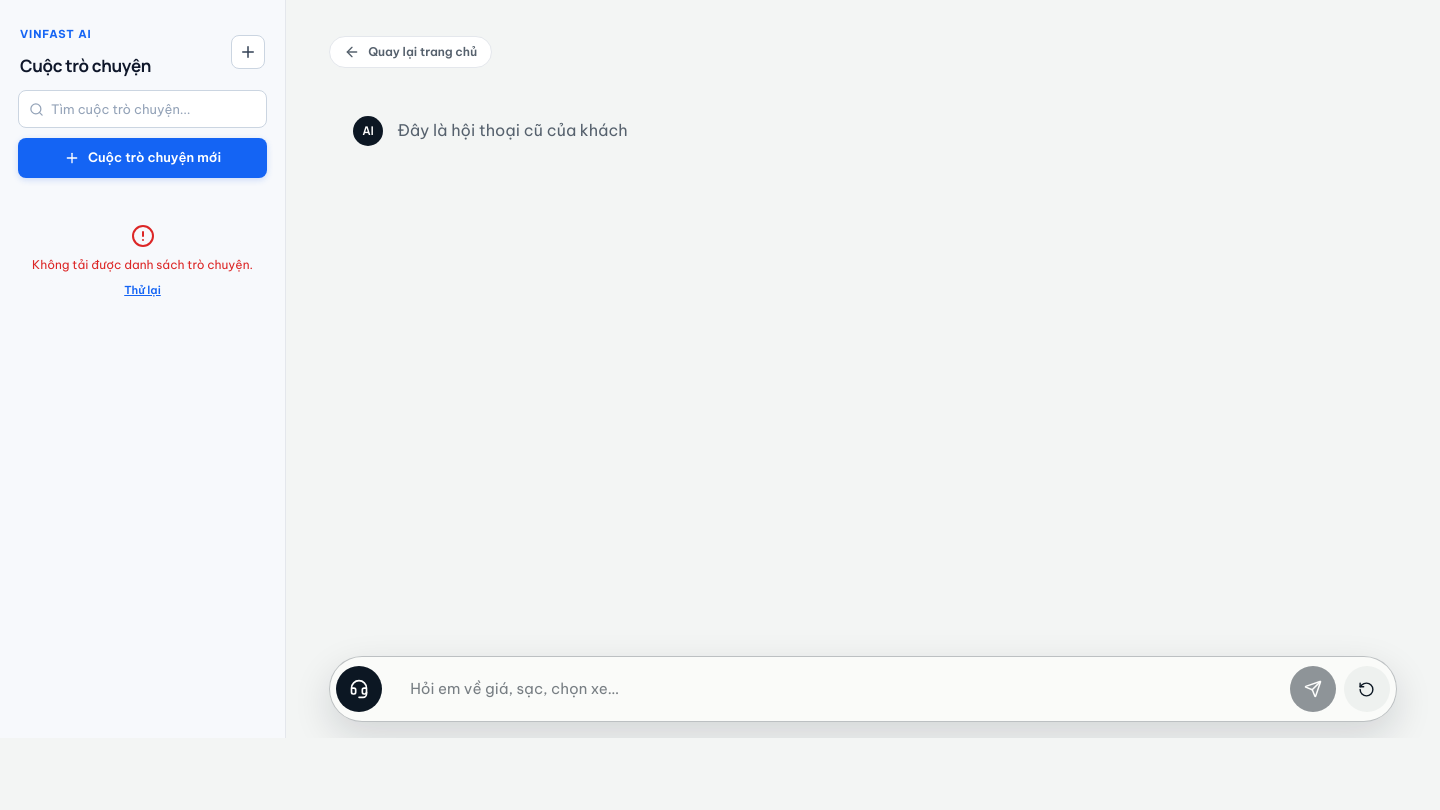
Nút tạo cuộc trò chuyện mới › dấu + trên đầu danh sách cũng bắt đầu hội thoại mới
Check: the text "Đây là hội thoại cũ của khách" is shown, box [397,120,628,140]
What coordinates should you click on to do the following:
click the button named "Tạo cuộc trò chuyện mới"
I would click on:
 (248, 52)
Its box is [231,35,265,69].
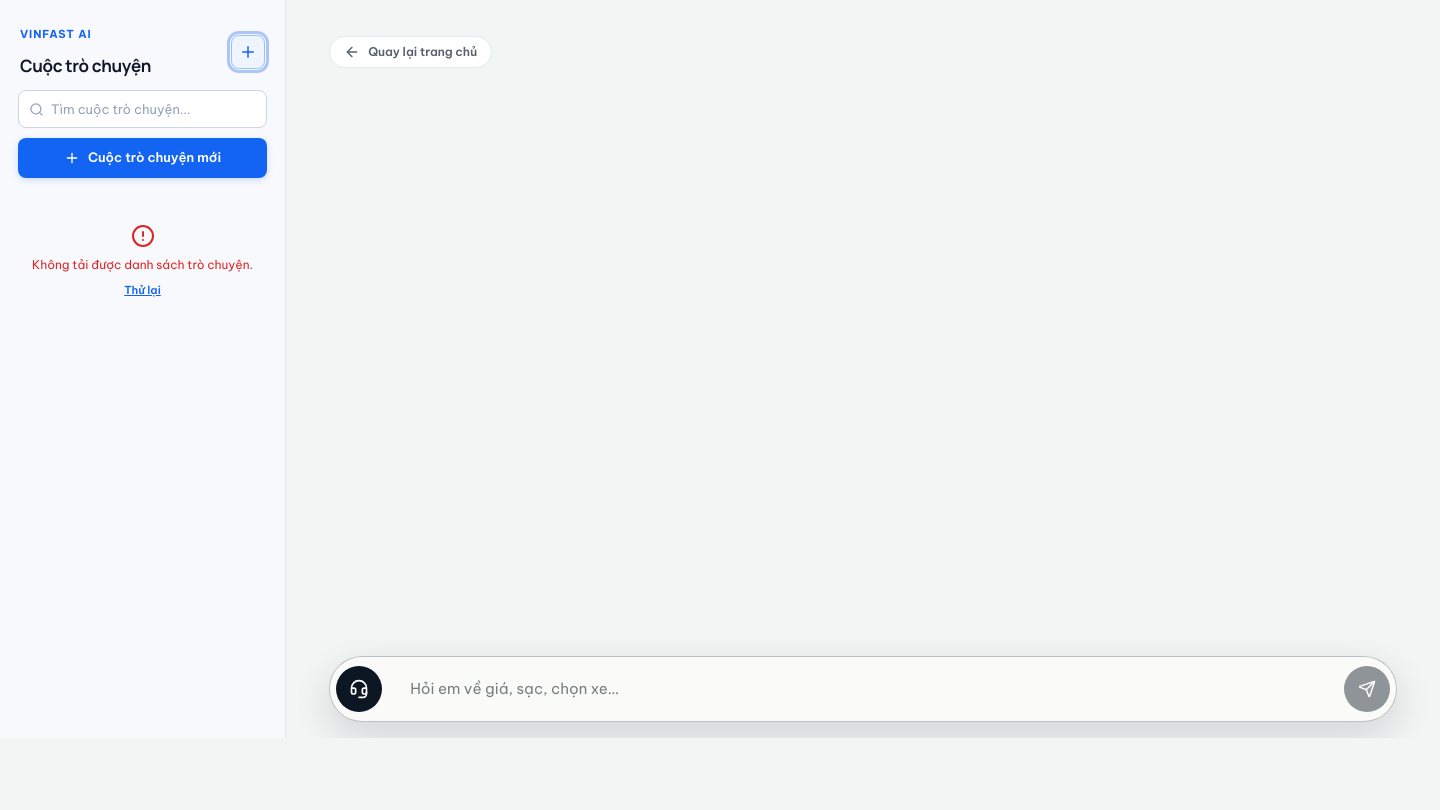
Check: the text "Đây là hội thoại cũ của khách" is gone
